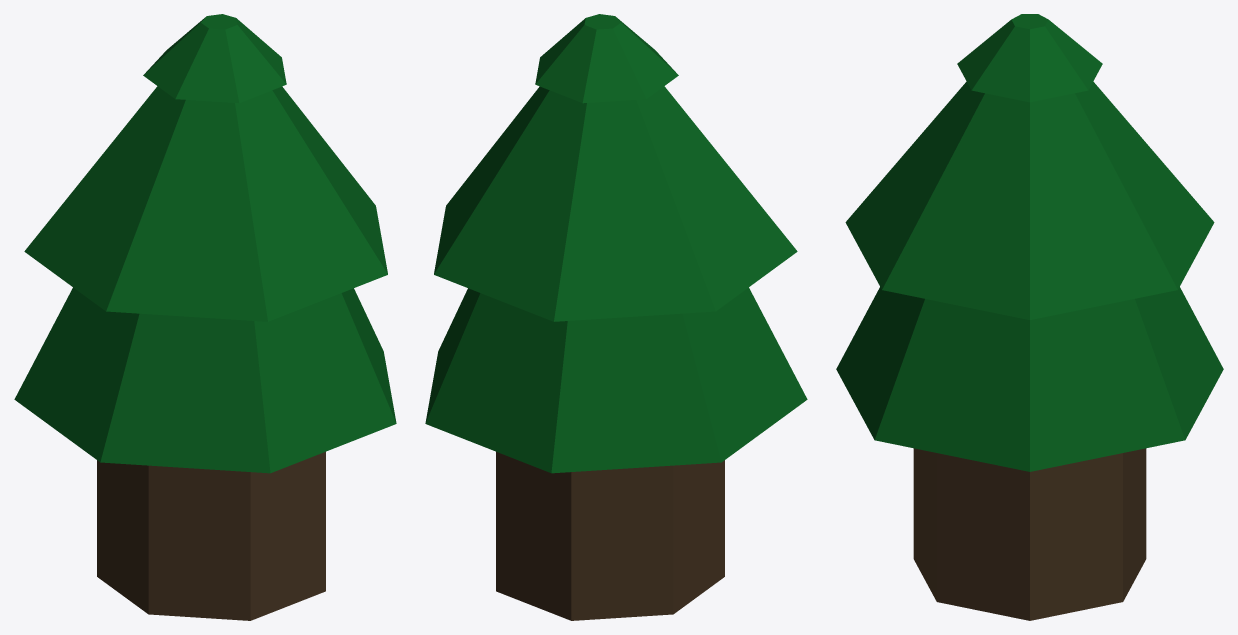
File: pinetree.fbx
3 renders of one model, left to right at view 1: azimuth 30°, elevation 25°; view 2: azimuth 150°, elevation 25°; view 3: azimuth 270°, elevation 25°, orthographic.
Visible parts, largest first — view 1: pCylinder1; view 2: pCylinder1; view 3: pCylinder1.
Part boxes in pixels (x1,y1,x2,y2): pCylinder1: [14, 14, 396, 620]; pCylinder1: [425, 14, 807, 620]; pCylinder1: [836, 14, 1223, 620].
Bounding box in the file's own units: 1.78 × 2.87 × 1.83.
Materials: 1 (1 with a texture image).
